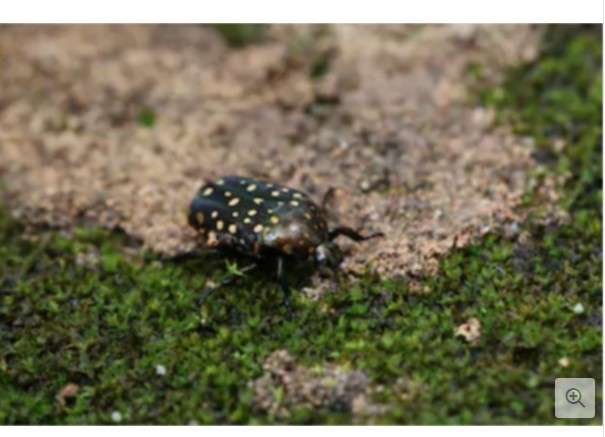Protaetia_niveoguttata: (183, 172, 367, 283)
